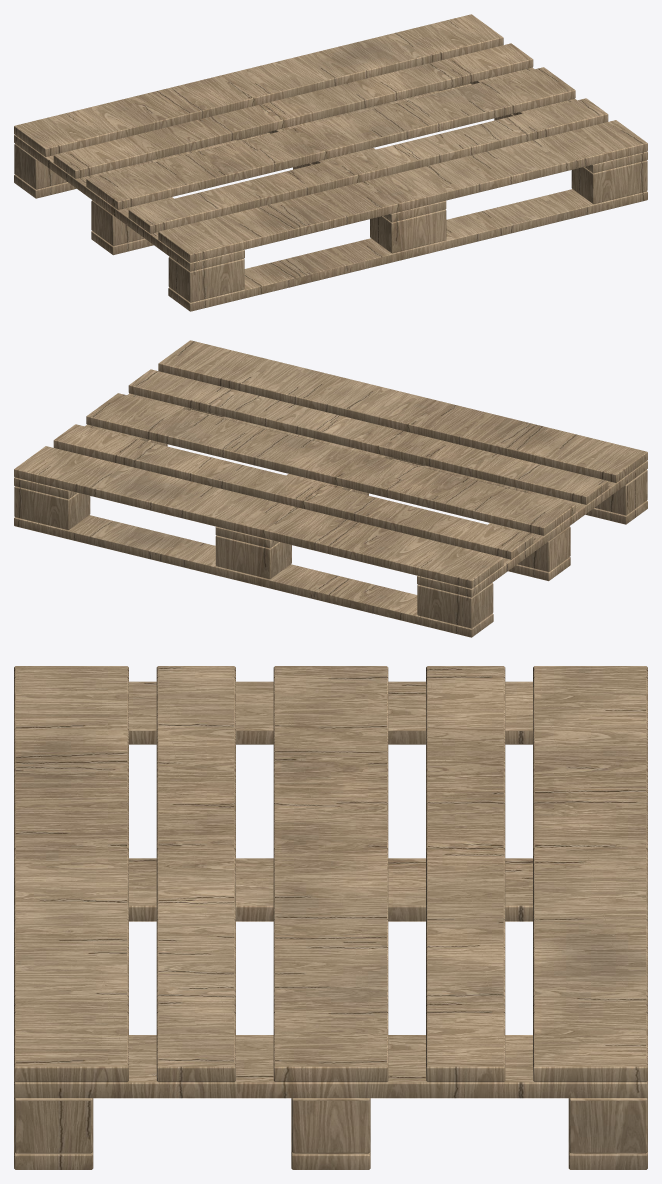
File: fk_pallet_wood.glb
The picture shows the model from 3 angles, top to bottom: view 1: azimuth 30°, elevation 25°; view 2: azimuth 150°, elevation 25°; view 3: azimuth 270°, elevation 25°; orthographic projection. The views are drawn at different scales.
Visible parts, largest first — view 1: fk_pallet_wood; view 2: fk_pallet_wood; view 3: fk_pallet_wood.
Boxes of the visible parts, x1,y1,x2,y2 form: fk_pallet_wood: (14,14,647,311); fk_pallet_wood: (14,340,647,637); fk_pallet_wood: (14,666,647,1169).
Size of the model in its own units: 1.2 by 0.144 by 0.8.
Materials: 1 (1 with a texture image).
